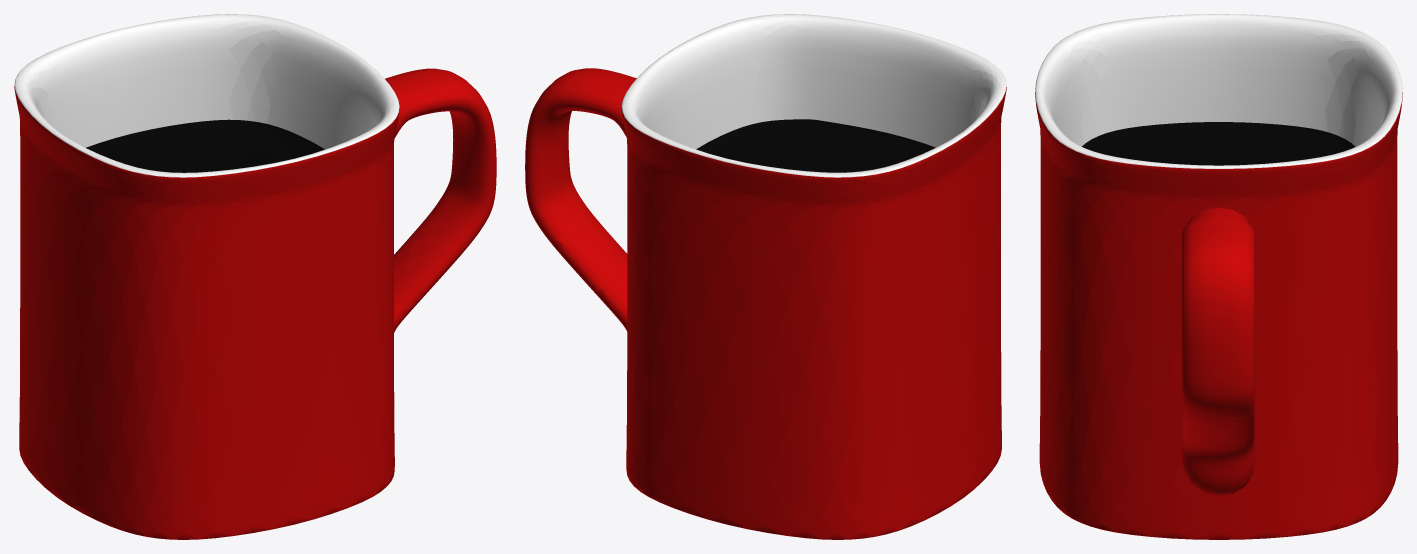
3 renders of one model, left to right at view 1: azimuth 30°, elevation 25°; view 2: azimuth 150°, elevation 25°; view 3: azimuth 270°, elevation 25°, orthographic. The views are drawn at different scales.
Visible parts, largest first — view 1: mug0_001, cofee_001; view 2: mug0_001, cofee_001; view 3: mug0_001, cofee_001.
Boxes of the visible parts, box(x1,y1,x2,y2) form: mug0_001: box(14, 14, 496, 539); cofee_001: box(86, 119, 324, 172); mug0_001: box(525, 14, 1006, 539); cofee_001: box(696, 119, 935, 172); mug0_001: box(1035, 14, 1402, 539); cofee_001: box(1082, 122, 1355, 165).
Bounding box in the file's own units: 45.27 × 36.69 × 32.48.
